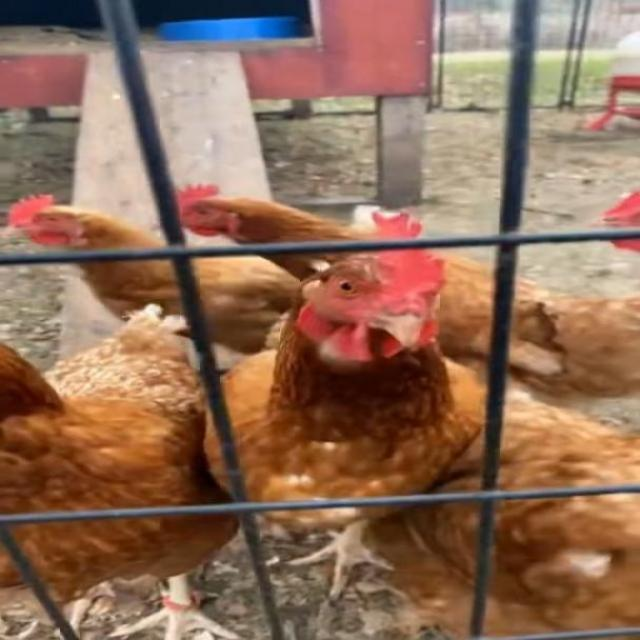Chicken: (204, 212, 490, 599), (146, 181, 640, 394), (0, 304, 245, 640), (372, 388, 639, 640), (0, 194, 309, 354), (581, 191, 640, 254)
